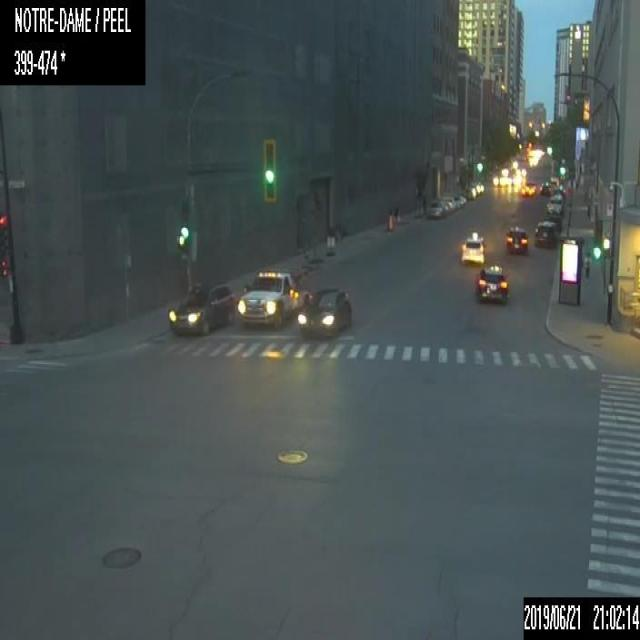pedestrian: (583, 249, 591, 284), (421, 188, 427, 215), (393, 201, 399, 224)
vehicle: (237, 268, 309, 329), (167, 280, 235, 334), (296, 287, 352, 338), (475, 263, 509, 303), (460, 231, 485, 264), (534, 219, 558, 248), (505, 225, 527, 252), (542, 212, 562, 233), (426, 198, 444, 217), (546, 195, 563, 213), (436, 198, 451, 214), (441, 193, 456, 209), (525, 179, 537, 194), (538, 180, 550, 193)
